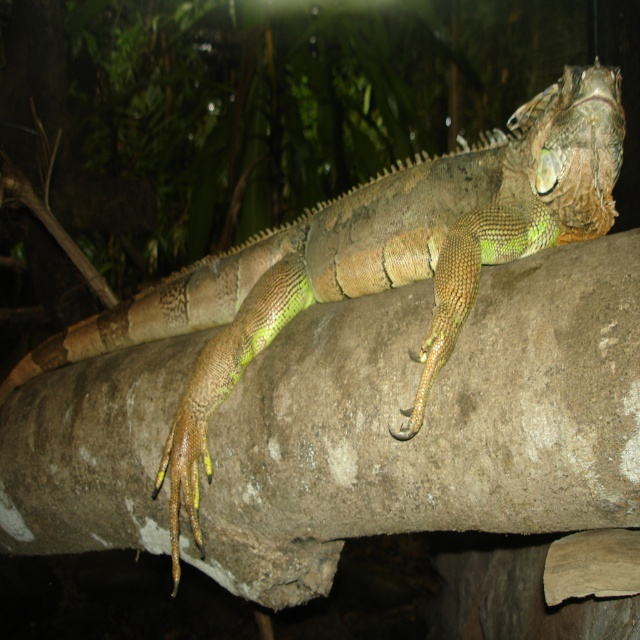Lizard: (2, 58, 625, 601)
